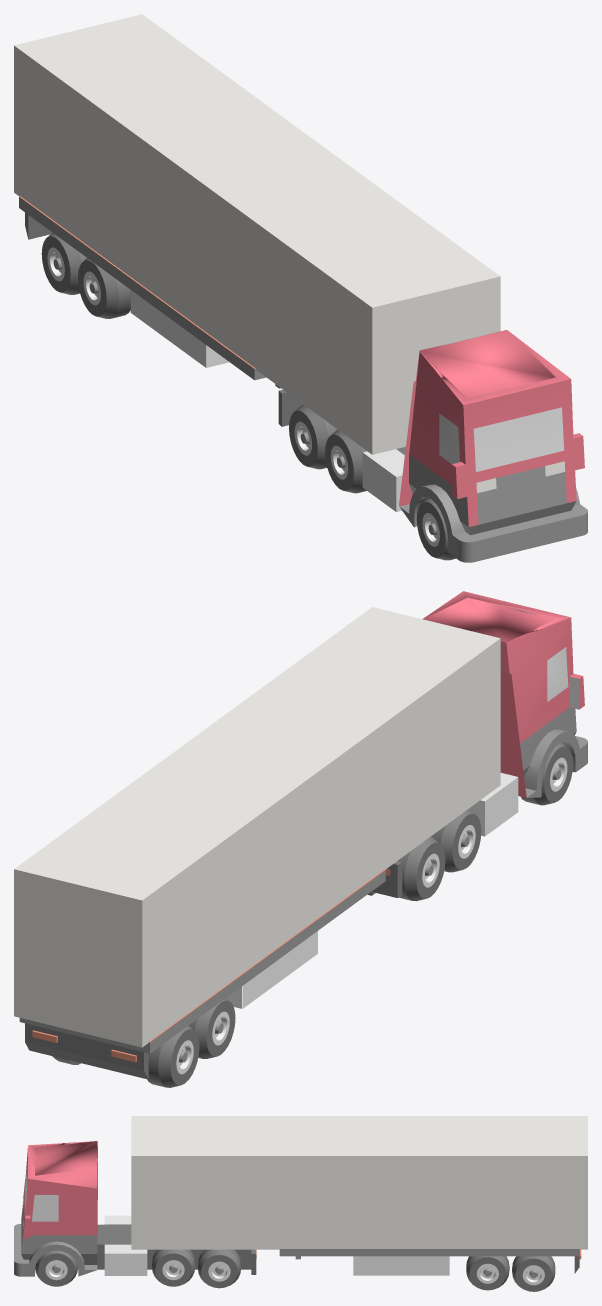
The model's file is truck 1.fbx.
3 renders of one model, top to bottom at view 1: azimuth 30°, elevation 25°; view 2: azimuth 150°, elevation 25°; view 3: azimuth 270°, elevation 25°, orthographic. The views are drawn at different scales.
Parts seen in each view (by area): view 1: firetruck; view 2: firetruck; view 3: firetruck.
Part boxes in pixels (<box>): firetruck: <box>14,14,587,562</box>; firetruck: <box>14,591,587,1087</box>; firetruck: <box>14,1116,587,1291</box>.
Bounding box in the file's own units: 99.52 × 160 × 596.
